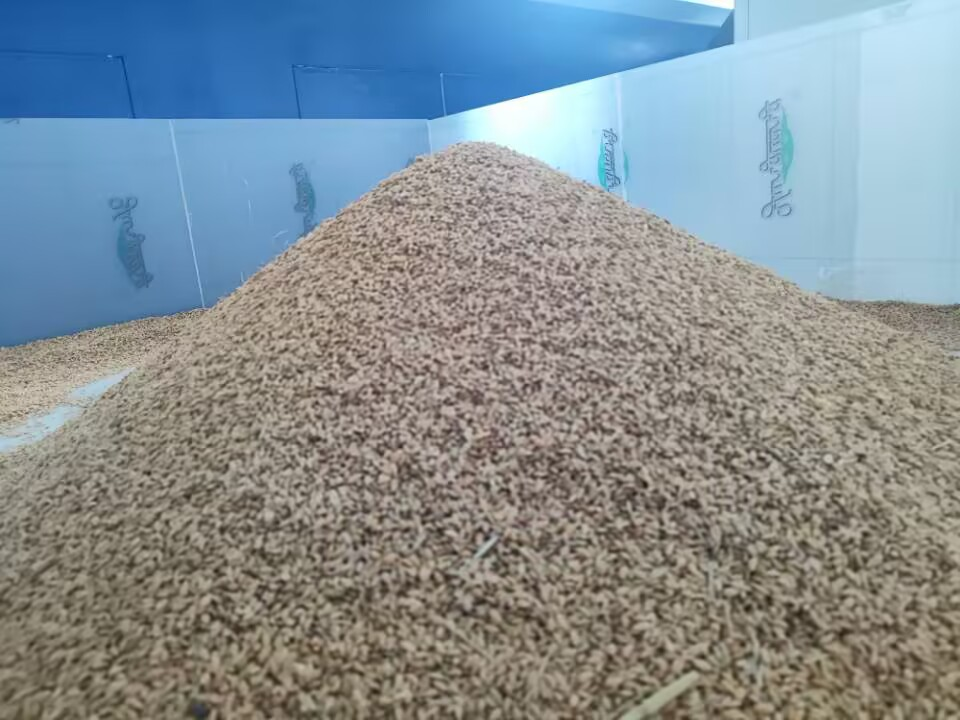Grain: (95, 118, 794, 633)
